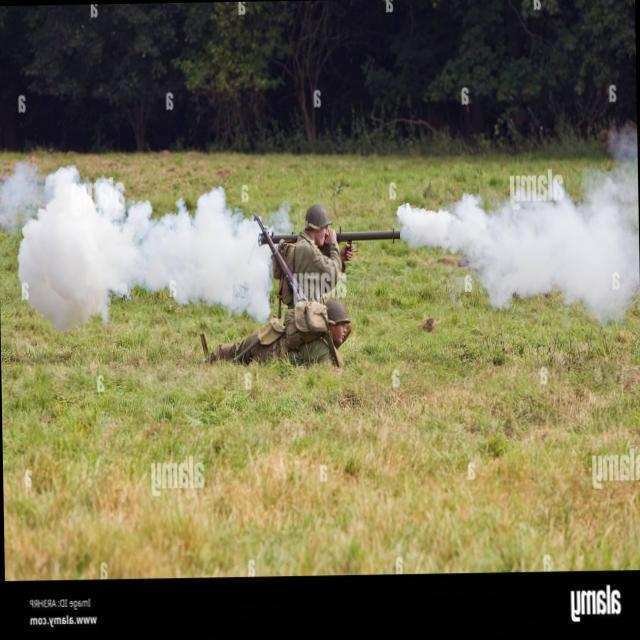rocket: (258, 215, 399, 252)
